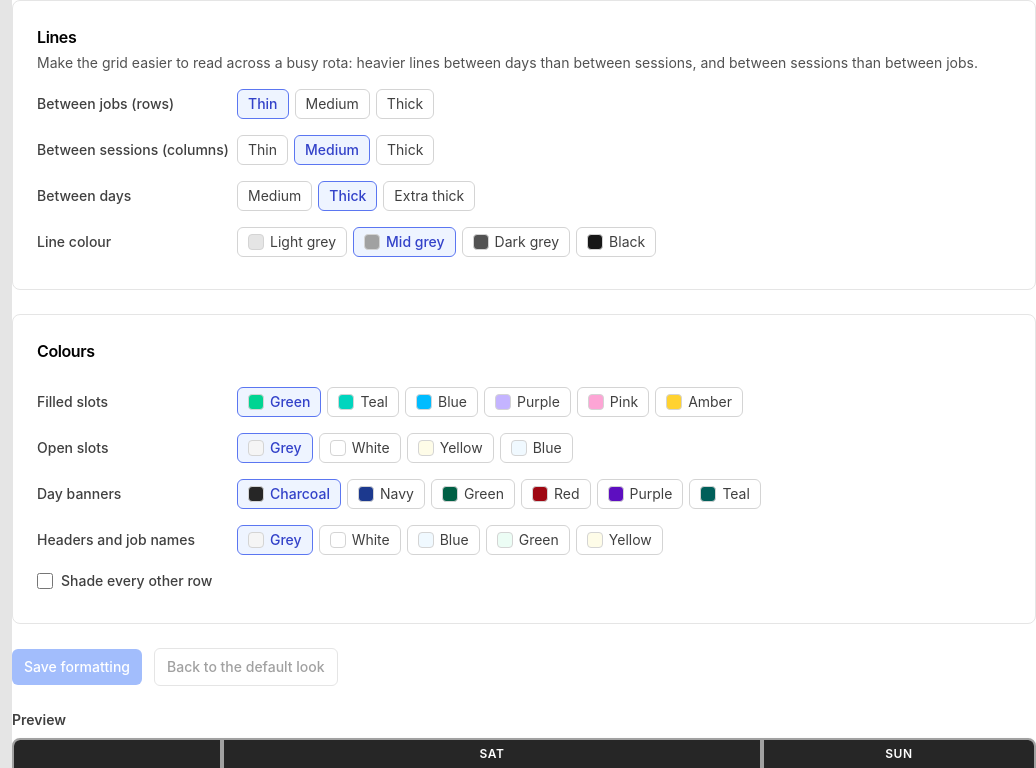
Test: RotaFormatting › updates the preview as options are picked, and saves the chosen look
The width and height of the screenshot is (1036, 768).
Step 1. Click the button "Thick" in the row of "Between jobs (rows)" → (405, 104), box [376,89,434,119]
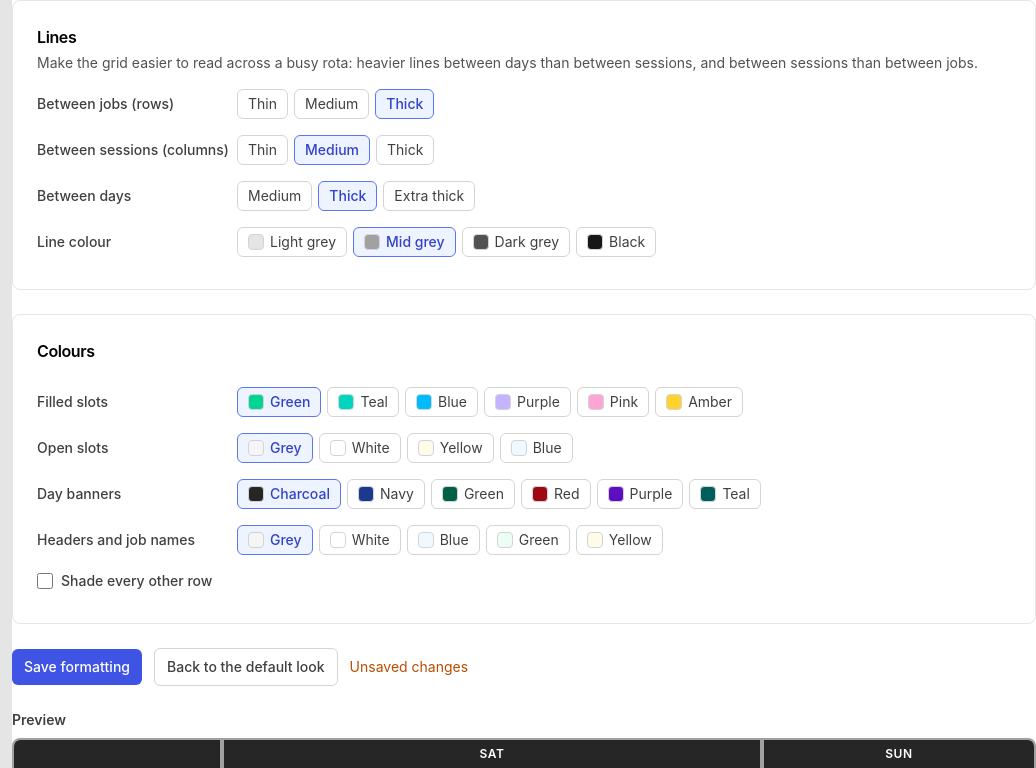
Step 2. Click the button "Blue" in the row of "Filled slots" → (442, 402), box [405,387,478,417]
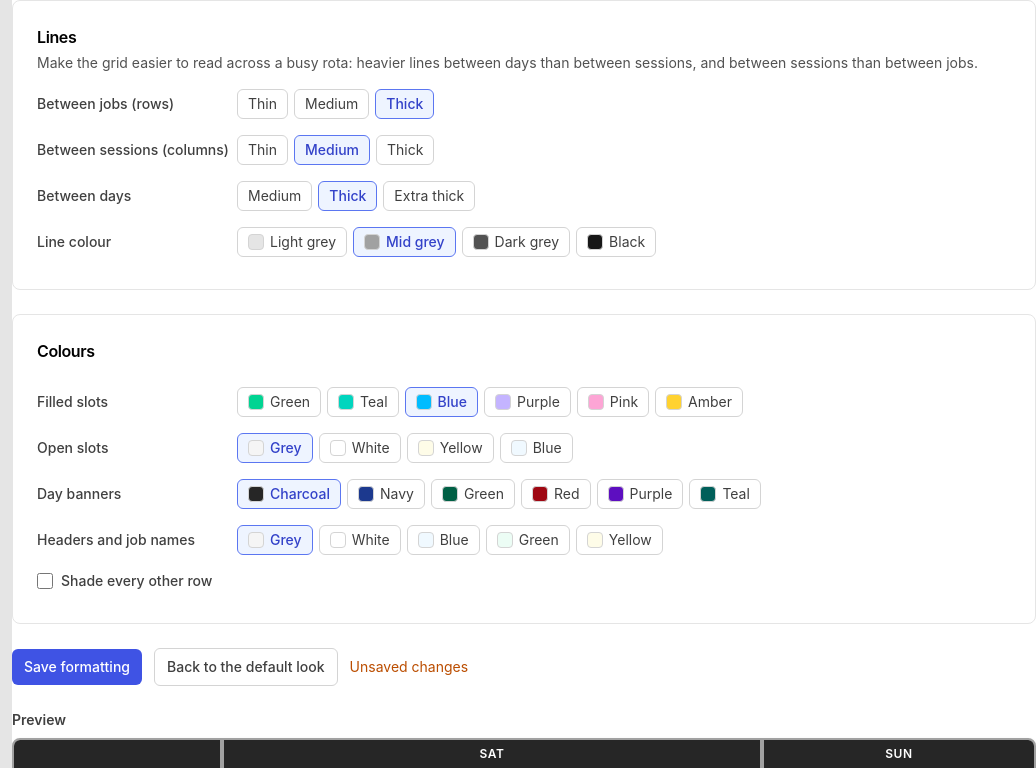
Expected: the text "Unsaved changes" is shown, [350,657,468,677]
Step 3. Click the button "Save formatting" → (77, 667), box [12,649,142,685]
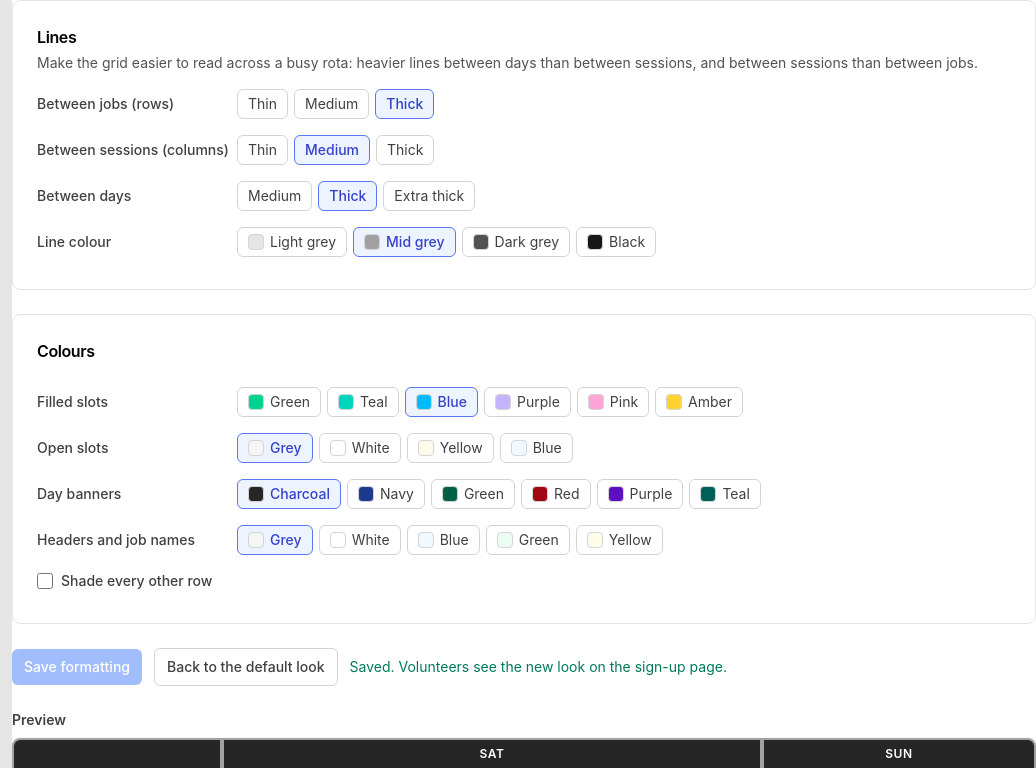
Expected: the message shows "Saved", [350,658,727,675]
